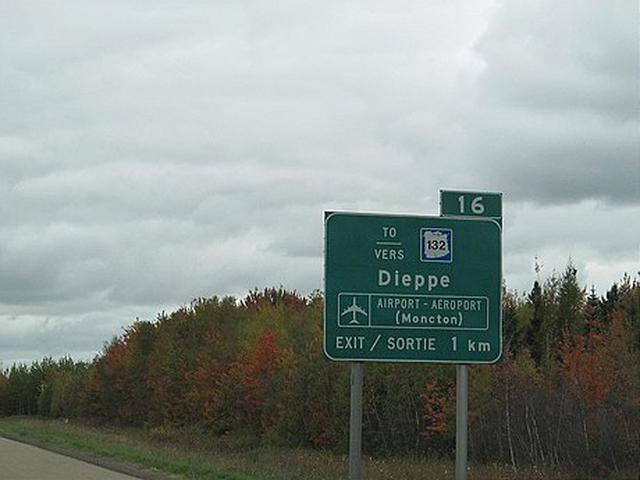autre: (320, 187, 506, 367)
